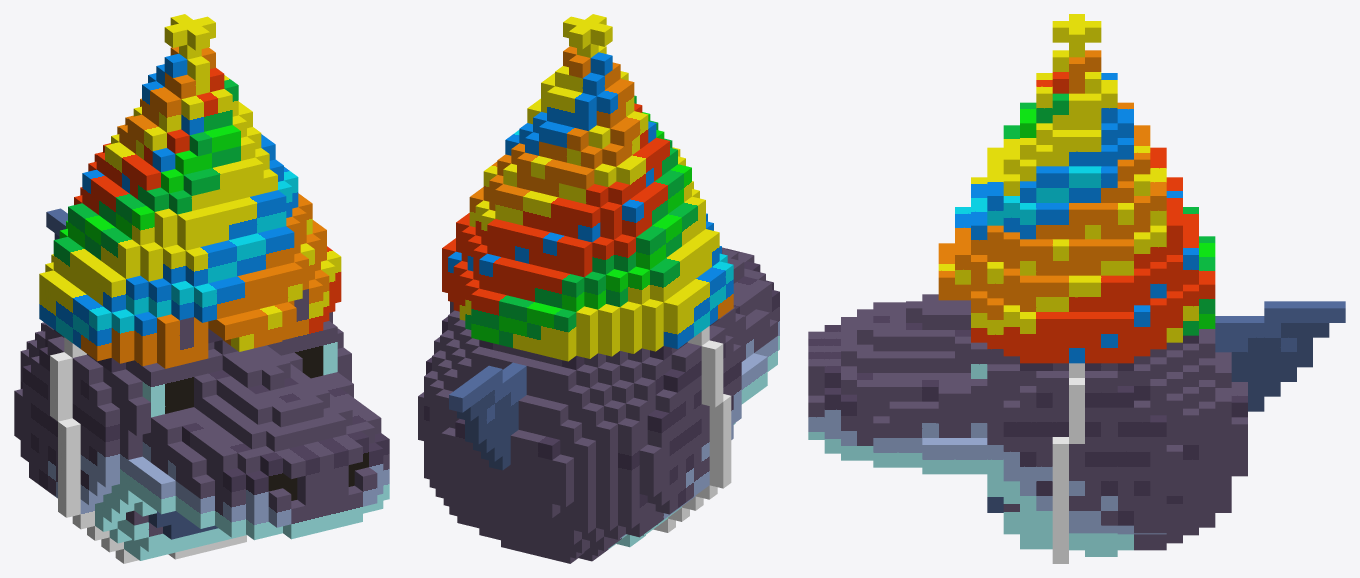
File: birthday hat_red glasses.gltf
3 views of the same model, side by side, from view 1: azimuth 30°, elevation 25°; view 2: azimuth 150°, elevation 25°; view 3: azimuth 270°, elevation 25° (orthographic). The views are drawn at different scales.
Parts seen in each view (by area): view 1: C05_H_BirthdayH_RedGlasses-Mesh; view 2: C05_H_BirthdayH_RedGlasses-Mesh; view 3: C05_H_BirthdayH_RedGlasses-Mesh.
Boxes of the visible parts, <box> form: C05_H_BirthdayH_RedGlasses-Mesh: <box>14,14,389,563</box>; C05_H_BirthdayH_RedGlasses-Mesh: <box>418,14,779,563</box>; C05_H_BirthdayH_RedGlasses-Mesh: <box>808,14,1345,563</box>.
Size of the model in its own units: 19 by 34 by 33.
1 material, 1 textured.
